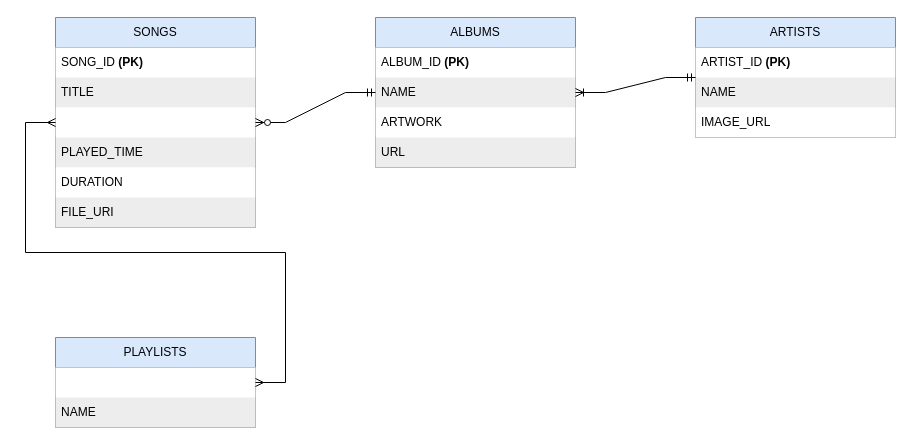
This 913x445 diagram has some shape labels left out. Each missing label, with the centre of its shape:
PLAYLIST_ID (PK): point 155,382
TRACK_NUMBER: point 155,122
